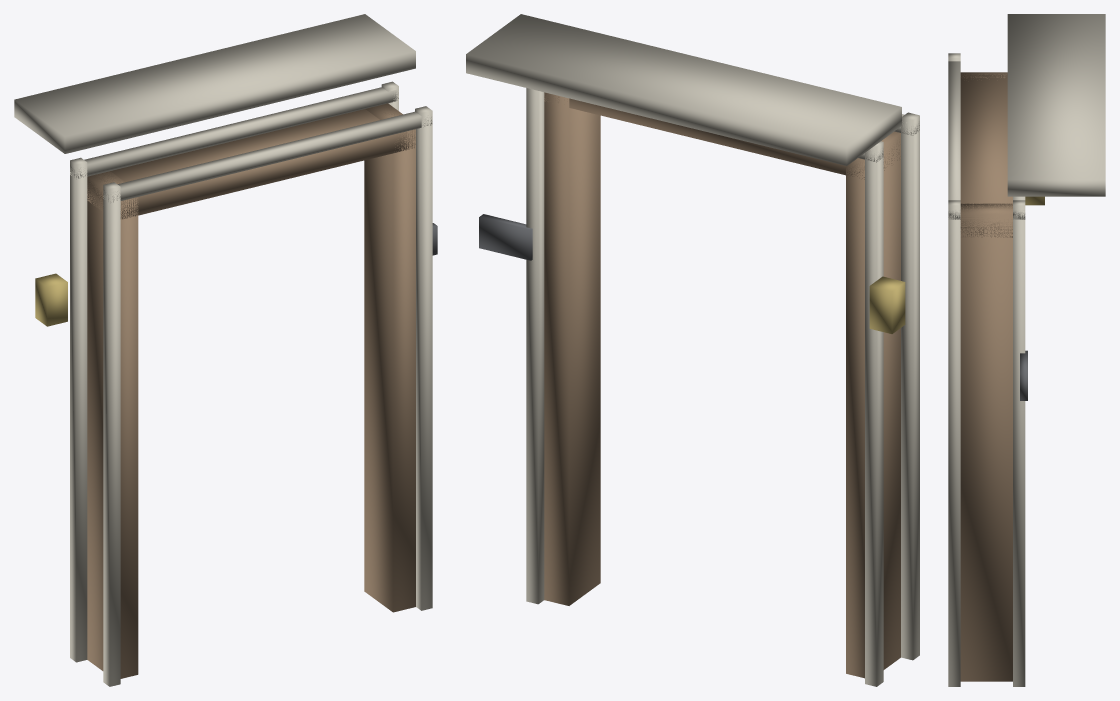
File: doorway_motel_w122_h210_d24.glb
3 renders of one model, left to right at view 1: azimuth 30°, elevation 25°; view 2: azimuth 150°, elevation 25°; view 3: azimuth 270°, elevation 25°, orthographic. The views are drawn at different scales.
Visible parts, largest first — view 1: world; view 2: world; view 3: world.
Part boxes in pixels (x1,y1,x2,y2): world: [14, 14, 437, 686]; world: [466, 14, 919, 686]; world: [948, 14, 1105, 686].
Size of the model in its own units: 1.86 by 2.43 by 0.6748.
